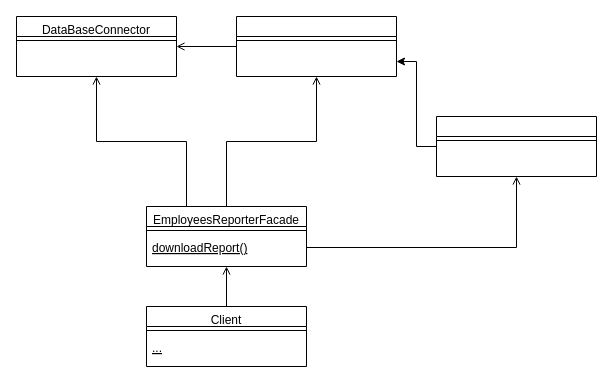
This 613x383 diagram has some shape labels left out. Each missing label, with the centre of its shape:
"FileConverter" goes at (x=516, y=146).
"QueryCommands" goes at (x=316, y=46).
